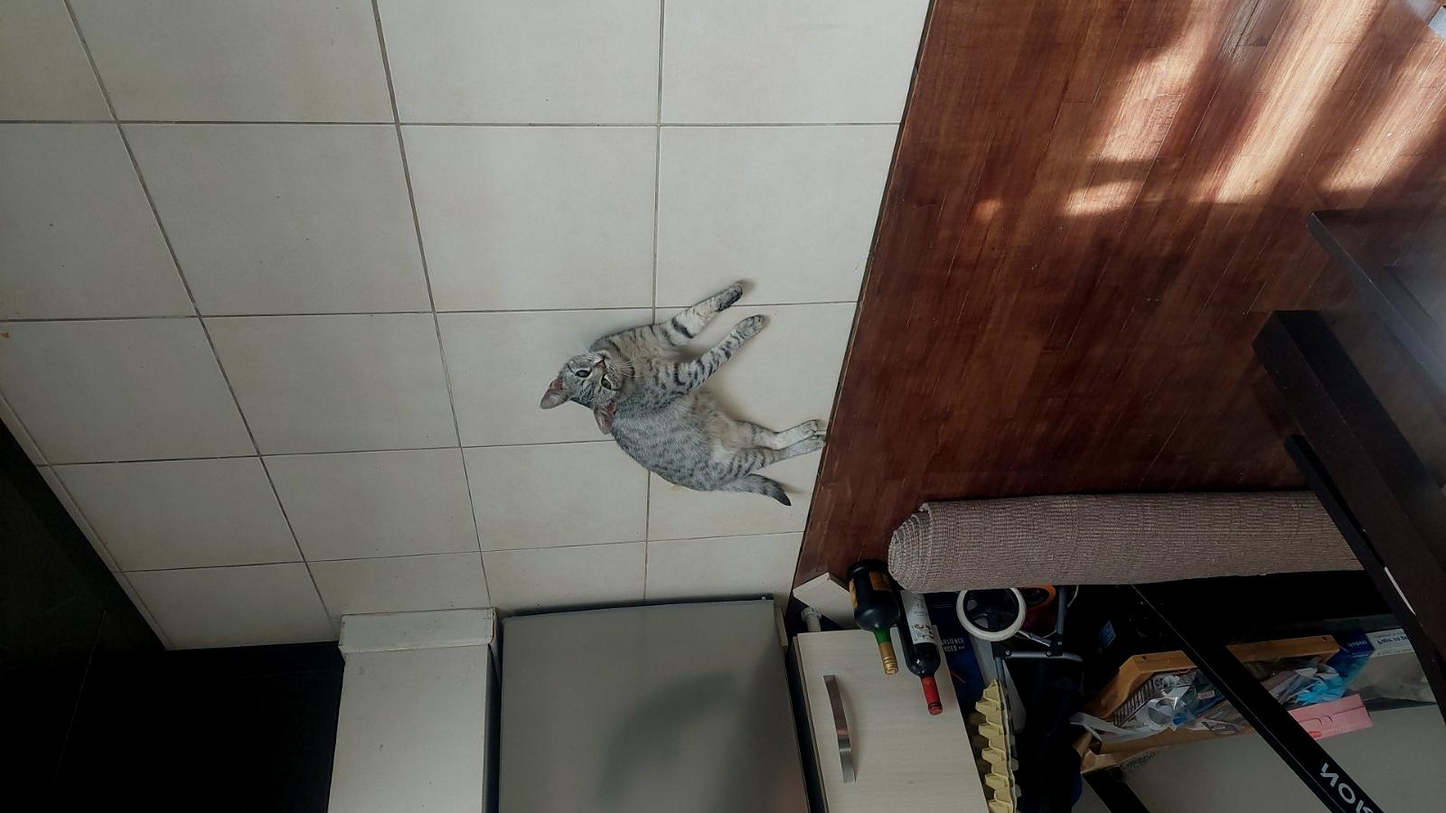macka: (539, 284, 829, 507)
